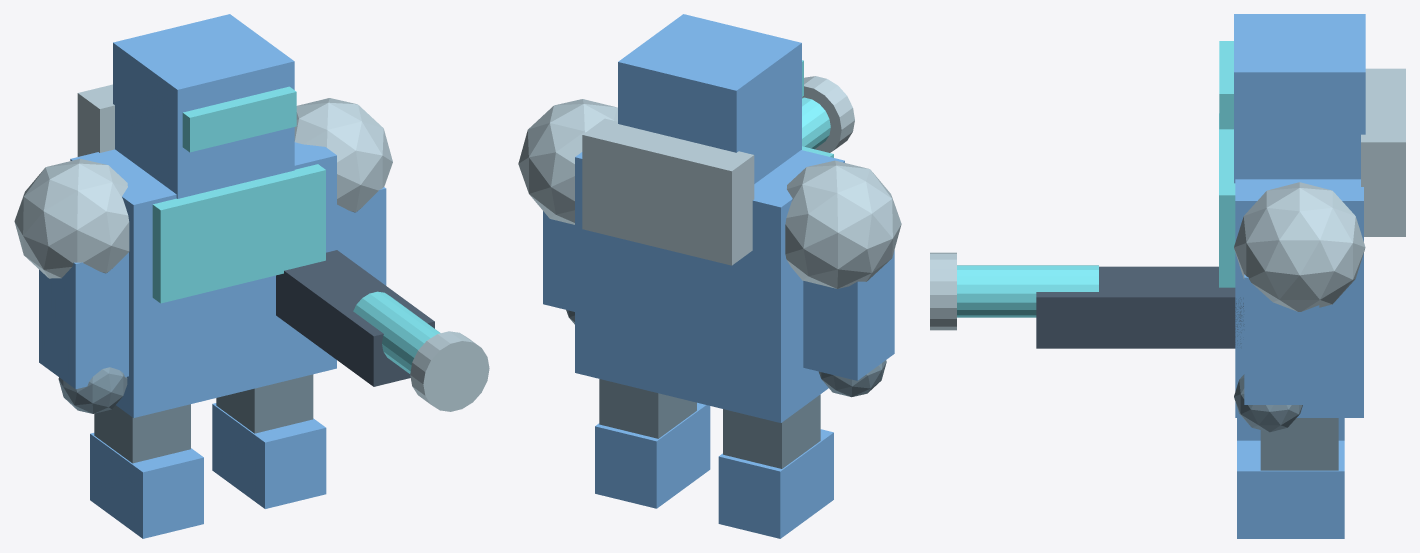
Rendered from aegis_trooper.glb.
The picture shows the model from 3 angles, left to right: view 1: azimuth 30°, elevation 25°; view 2: azimuth 150°, elevation 25°; view 3: azimuth 270°, elevation 25°; orthographic projection.
Parts seen in each view (by area): view 1: torso_4, helmet_6, chestplate_5, shoulder_joint_8, weapon_body_15, arm_armor_9, boots_2, boots_0, shoulder_joint_11, weapon_muzzle_17, visor_7, leg_armor_1 (+5 smaller); view 2: torso_4, helmet_6, power_backpack_14, shoulder_joint_8, arm_armor_9, boots_0, boots_2, shoulder_joint_11, leg_armor_1, leg_armor_3, arm_armor_12, weapon_muzzle_17 (+2 smaller); view 3: helmet_6, weapon_body_15, shoulder_joint_11, torso_4, boots_2, arm_armor_12, power_backpack_14, energy_barrel_16, leg_armor_3, chestplate_5, weapon_muzzle_17, wrist_joint_13 (+2 smaller).
Part boxes in pixels (bbox=[...]): torso_4: bbox=[70, 142, 336, 417]; helmet_6: bbox=[113, 14, 294, 198]; chestplate_5: bbox=[152, 164, 325, 303]; shoulder_joint_8: bbox=[14, 158, 129, 278]; weapon_body_15: bbox=[276, 250, 434, 386]; arm_armor_9: bbox=[39, 252, 128, 389]; boots_2: bbox=[212, 403, 326, 508]; boots_0: bbox=[90, 433, 203, 538]; shoulder_joint_11: bbox=[294, 98, 392, 212]; weapon_muzzle_17: bbox=[410, 331, 489, 411]; visor_7: bbox=[182, 86, 296, 152]; leg_armor_1: bbox=[94, 404, 190, 463]; torso_4: bbox=[575, 150, 844, 422]; helmet_6: bbox=[618, 14, 801, 183]; power_backpack_14: bbox=[582, 118, 754, 265]; shoulder_joint_8: bbox=[785, 160, 901, 288]; arm_armor_9: bbox=[803, 250, 894, 380]; boots_0: bbox=[718, 429, 833, 538]; boots_2: bbox=[595, 402, 710, 508]; shoulder_joint_11: bbox=[518, 99, 617, 224]; leg_armor_1: bbox=[723, 394, 820, 468]; leg_armor_3: bbox=[599, 379, 696, 438]; arm_armor_12: bbox=[543, 211, 574, 311]; weapon_muzzle_17: bbox=[802, 76, 854, 152]; helmet_6: bbox=[1234, 14, 1365, 183]; weapon_body_15: bbox=[1036, 266, 1244, 348]; shoulder_joint_11: bbox=[1234, 182, 1365, 311]; torso_4: bbox=[1235, 179, 1363, 417]; boots_2: bbox=[1237, 440, 1344, 538]; arm_armor_12: bbox=[1244, 274, 1319, 404]; power_backpack_14: bbox=[1361, 68, 1405, 236]; energy_barrel_16: bbox=[957, 265, 1098, 317]; leg_armor_3: bbox=[1260, 418, 1338, 470]; chestplate_5: bbox=[1219, 113, 1235, 287]; weapon_muzzle_17: bbox=[930, 252, 956, 330]; wrist_joint_13: bbox=[1234, 374, 1302, 432].
Size of the model in its own units: 1.42 by 1.66 by 1.59.
